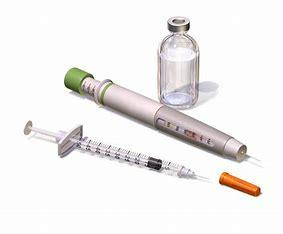Syringe: (15, 118, 216, 184), (153, 12, 204, 112)
